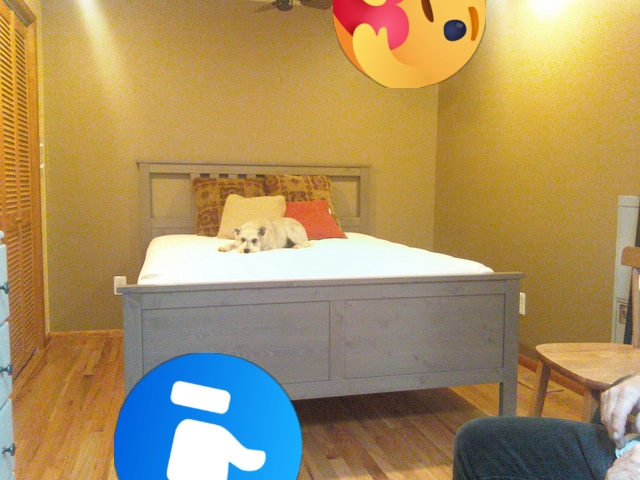care: (333, 0, 486, 88)
like: (114, 353, 302, 480)
